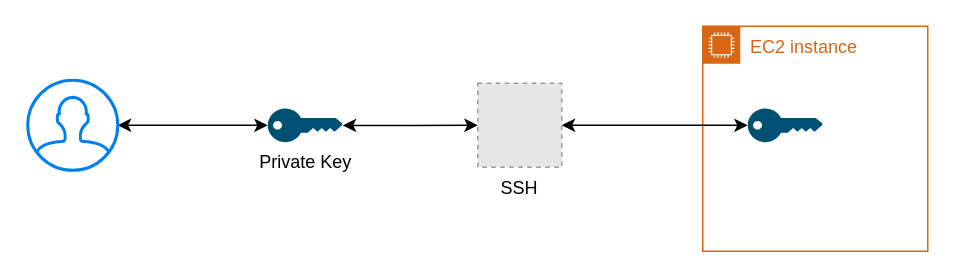
The diagram is 954 pixels wide and 278 high, and some of its shapes have lost their labels. Grey dashed boxes stand in for pictures. Here are the shapes that lost their labels. From the top down, the centre of each, then its label:
At point 72,124: "User".
At point 784,124: "Public Key".
